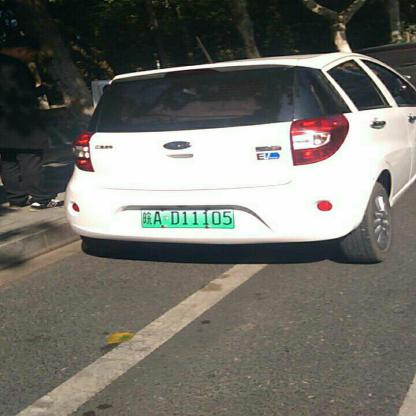lp: (140, 206, 234, 228)
